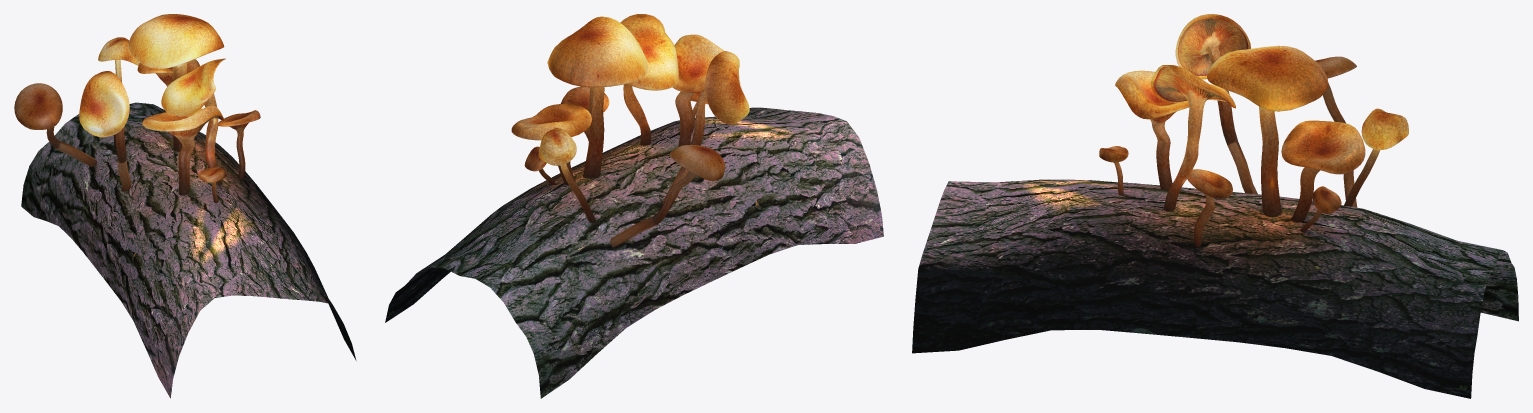
The model's file is mushroom_on_tree_baked_lighting_map-v1.glb.
The picture shows the model from 3 angles, left to right: view 1: azimuth 30°, elevation 25°; view 2: azimuth 150°, elevation 25°; view 3: azimuth 270°, elevation 25°; orthographic projection. The views are drawn at different scales.
Parts seen in each view (by area): view 1: branch, mushroom.000; view 2: branch, mushroom.000; view 3: branch, mushroom.000.
Part boxes in pixels (x1,y1,x2,y2): branch: (21,102,356,398); mushroom.000: (14,14,260,202); branch: (385,107,883,398); mushroom.000: (511,14,749,247); branch: (912,179,1518,398); mushroom.000: (1099,14,1408,247).
Bounding box in the file's own units: 993 × 956 × 1747.
2 materials, 2 textured.
